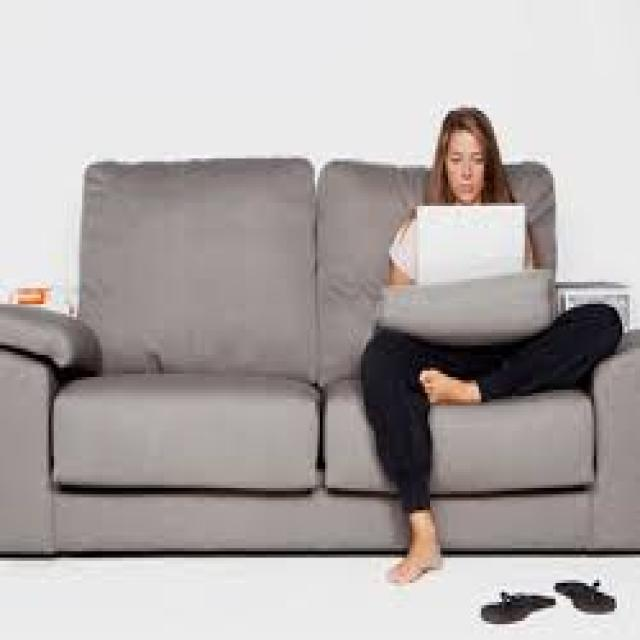nonfall: (360, 94, 601, 578)
